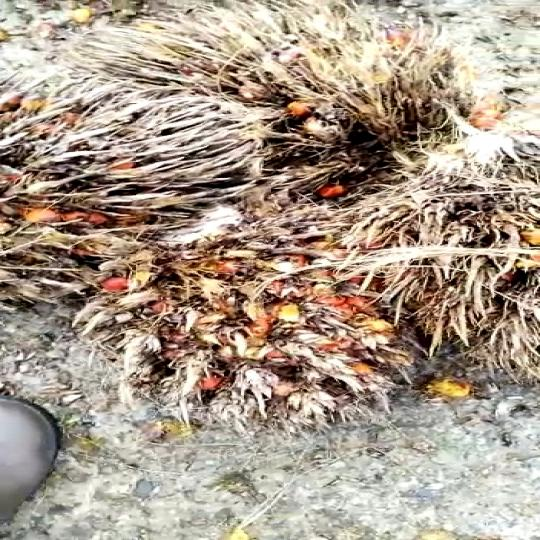terlalu masak: (85, 208, 505, 431), (98, 8, 485, 186)
